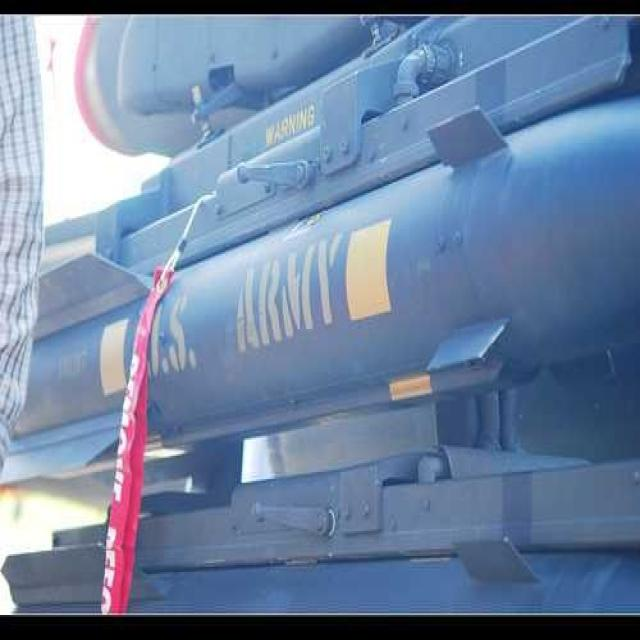missile: (0, 91, 639, 467)
